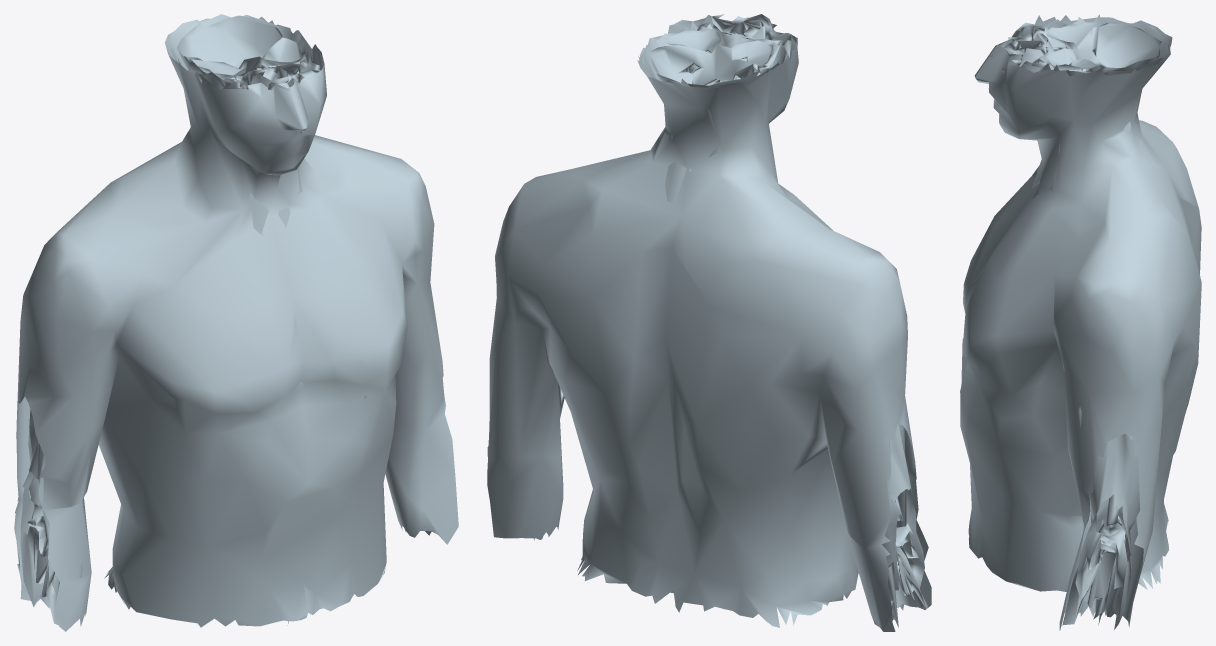
File: anatomical_body_heart.glb
The picture shows the model from 3 angles, left to right: view 1: azimuth 30°, elevation 25°; view 2: azimuth 150°, elevation 25°; view 3: azimuth 270°, elevation 25°; orthographic projection. The views are drawn at different scales.
Visible parts, largest first — view 1: BodyTorso; view 2: BodyTorso; view 3: BodyTorso.
Boxes of the visible parts, box(x1,y1,x2,y2) form: BodyTorso: box(14, 14, 458, 631); BodyTorso: box(487, 14, 931, 631); BodyTorso: box(960, 14, 1201, 630).
Size of the model in its own units: 9.21 by 11.73 by 4.99.
